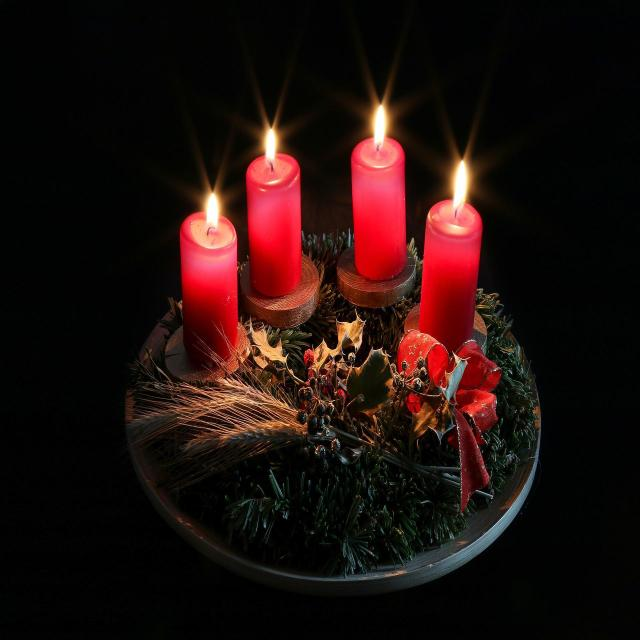Fire_Save: (418, 158, 483, 354), (179, 192, 238, 366), (350, 103, 407, 281), (245, 127, 302, 297)
